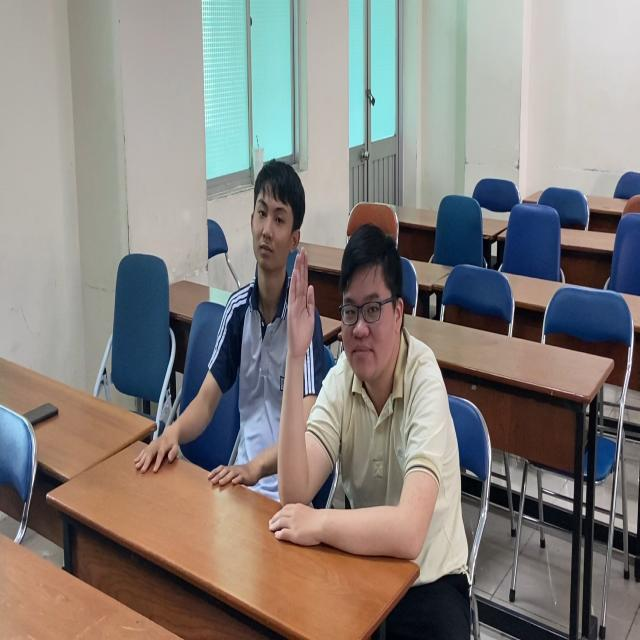raise_hand: (282, 216, 445, 562)
